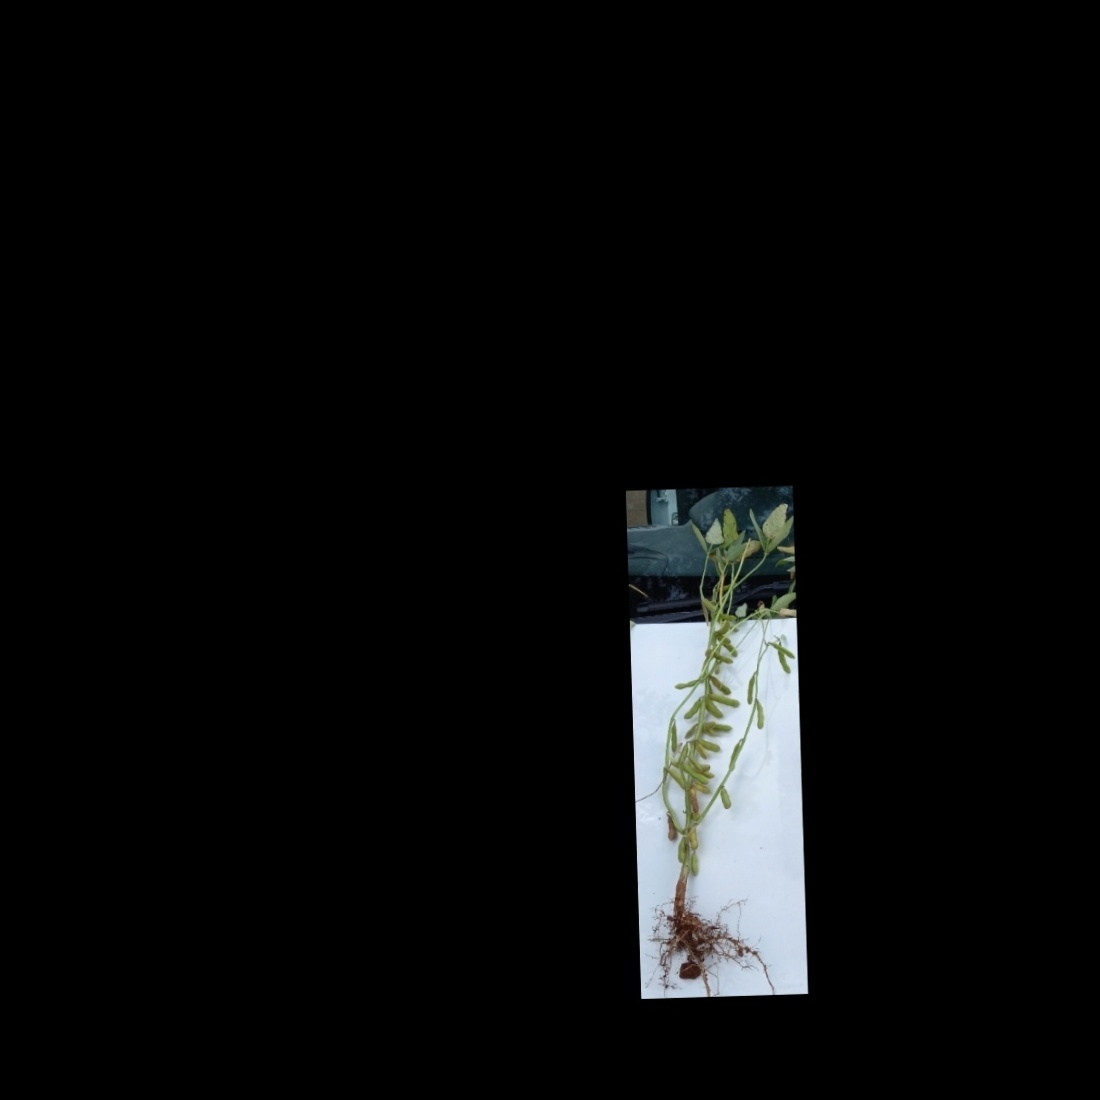pod: (681, 763, 711, 788), (680, 694, 704, 724), (708, 672, 733, 696), (717, 784, 737, 813), (705, 692, 741, 708), (753, 697, 769, 732), (664, 810, 678, 845), (668, 719, 682, 754), (698, 735, 723, 754), (671, 676, 698, 692), (744, 673, 757, 705)
soy: (636, 505, 801, 980)
